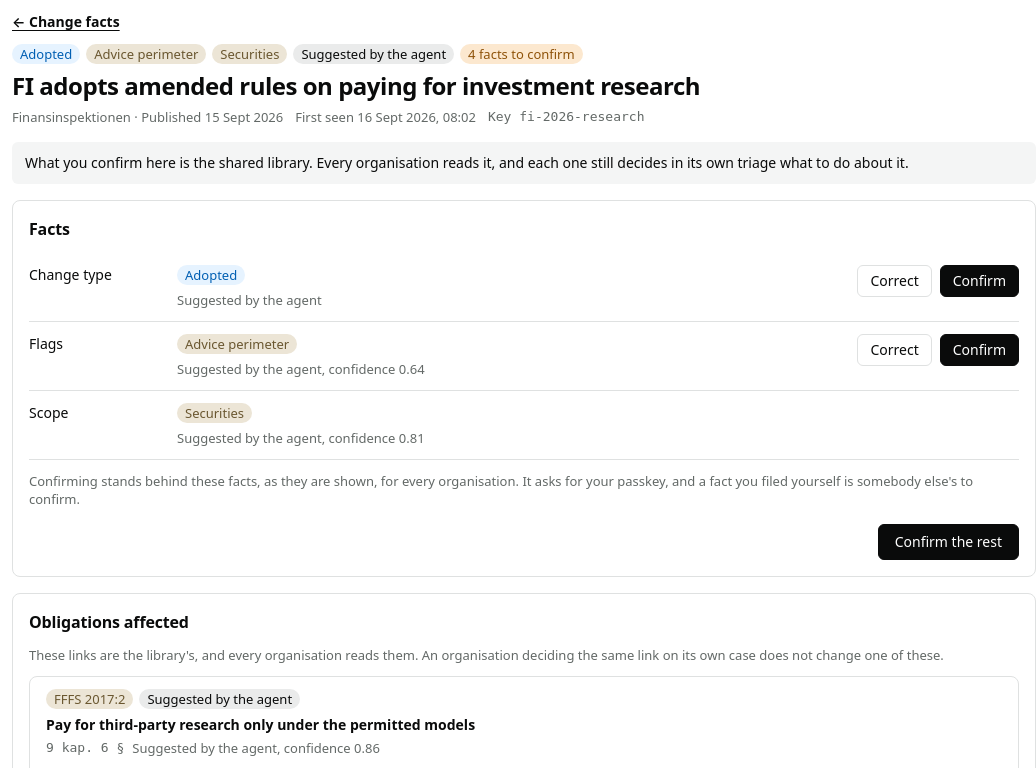
Test: console change facts detail › says nothing changed when the passkey step is cancelled
The width and height of the screenshot is (1036, 768).
Expected: the heading "FI adopts amended rules on paying for investment research" is shown, top-left (12, 69), bottom-right (700, 102)
Step 1. Click the button "Confirm" in the row of "Change type" → (979, 281), box top-left (940, 265), bottom-right (1019, 297)
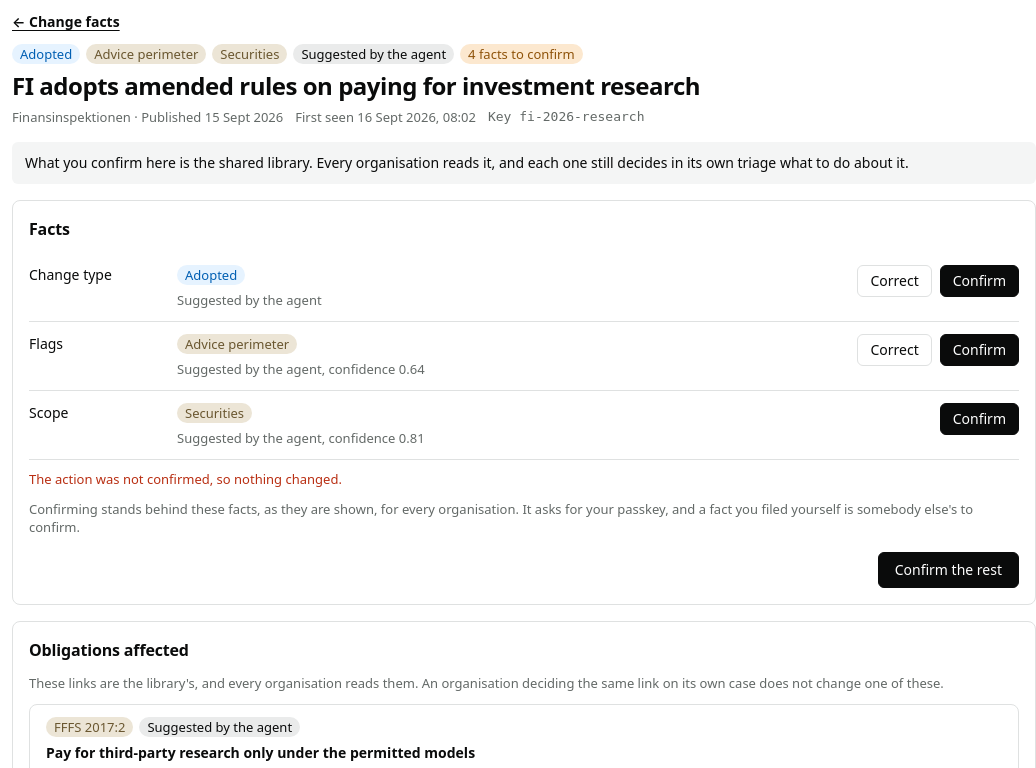
Now the message "The action was not confirmed, so nothing changed." is shown, box top-left (29, 470), bottom-right (342, 488)
